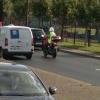Motorcycle: (36, 27, 64, 60)
